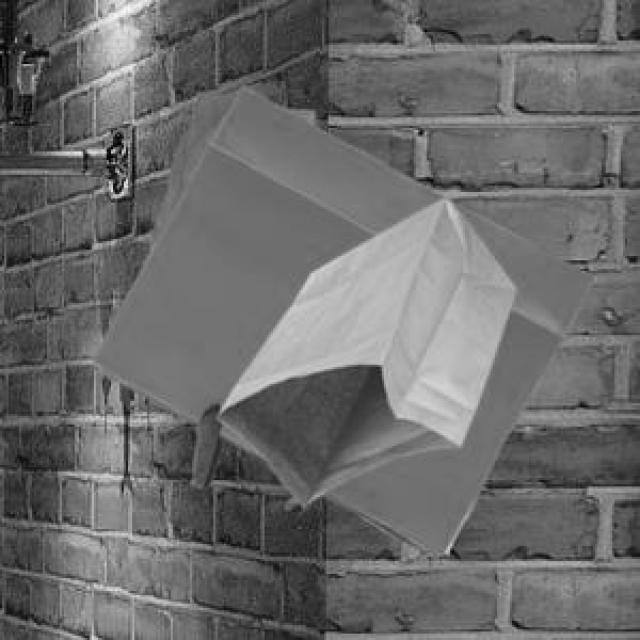paper: (88, 83, 591, 553), (213, 194, 512, 504)
